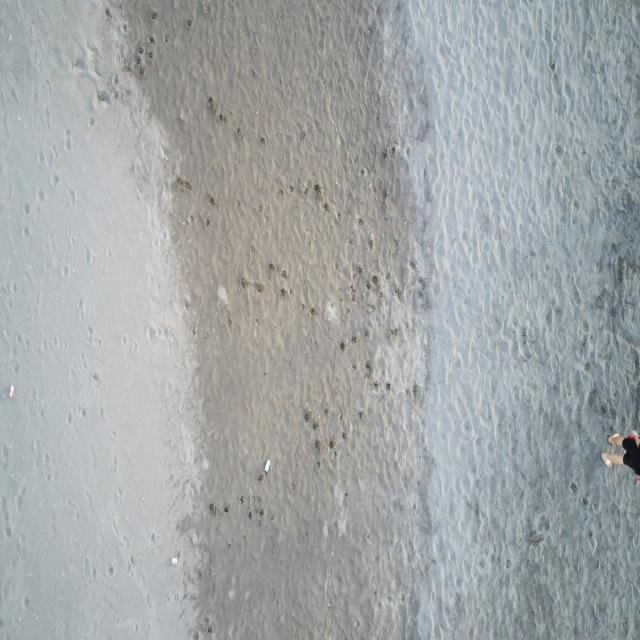Garbage: (263, 459, 270, 473), (8, 384, 13, 397), (171, 556, 176, 564), (258, 473, 263, 480)
